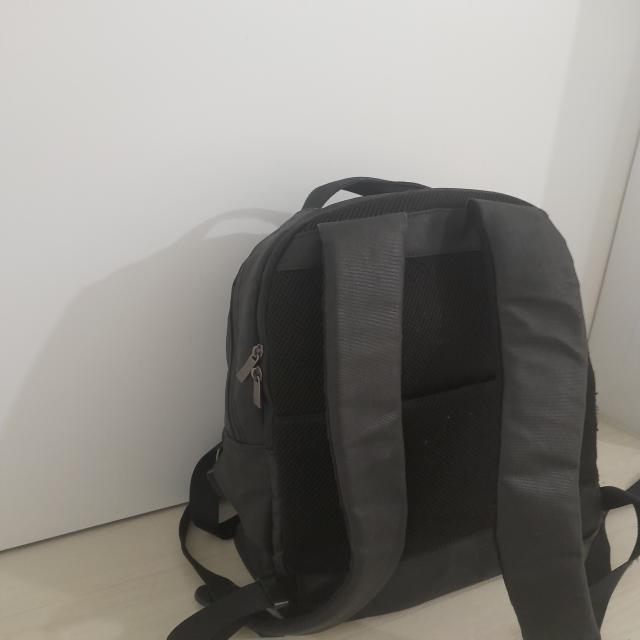backpack: (165, 176, 640, 640)
